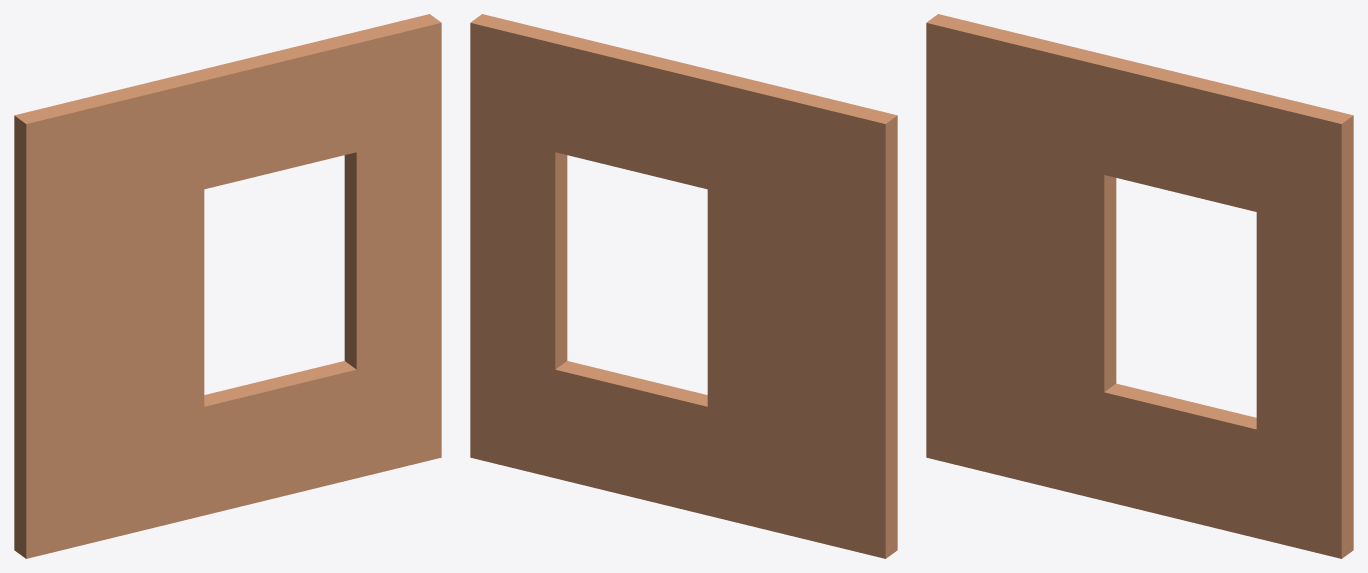
File: Wal_4_D.fbx
3 renders of one model, left to right at view 1: azimuth 30°, elevation 25°; view 2: azimuth 150°, elevation 25°; view 3: azimuth 330°, elevation 25°, orthographic.
Visible parts, largest first — view 1: pCube11; view 2: pCube11; view 3: pCube11.
Part boxes in pixels (x1,y1,x2,y2): pCube11: (14,14,441,558); pCube11: (470,14,897,558); pCube11: (926,14,1353,558).
Size of the model in its own units: 4 by 4 by 0.2.
Materials: 1 (1 with a texture image).
